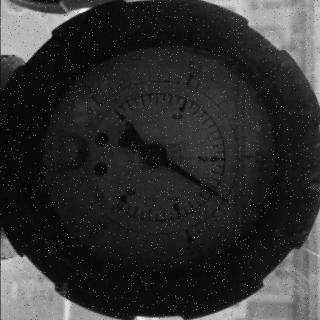gauge: (0, 0, 320, 320), (100, 101, 130, 128), (142, 140, 169, 169), (104, 191, 128, 217), (221, 195, 235, 211)
